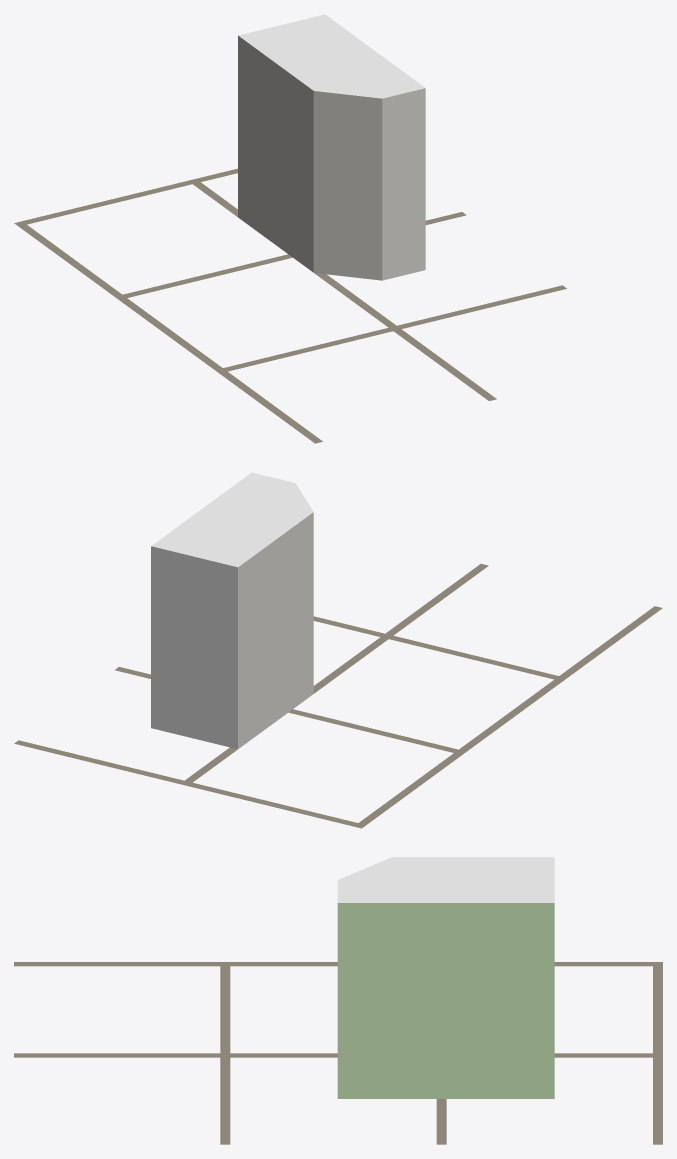
Rendered from Cave_Edge_Straight_Mid_1x1.glb.
The picture shows the model from 3 angles, top to bottom: view 1: azimuth 30°, elevation 25°; view 2: azimuth 150°, elevation 25°; view 3: azimuth 270°, elevation 25°; orthographic projection. The views are drawn at different scales.
Parts seen in each view (by area): view 1: Cave_Edge_Straight_Mid_1x1, Floor; view 2: Cave_Edge_Straight_Mid_1x1, Floor; view 3: Cave_Edge_Straight_Mid_1x1, Floor.
Boxes of the visible parts, bbox=[...] form: Cave_Edge_Straight_Mid_1x1: bbox=[238, 14, 425, 280]; Floor: bbox=[14, 168, 566, 443]; Cave_Edge_Straight_Mid_1x1: bbox=[151, 472, 313, 749]; Floor: bbox=[14, 563, 662, 828]; Cave_Edge_Straight_Mid_1x1: bbox=[337, 857, 554, 1098]; Floor: bbox=[14, 962, 662, 1144].
Size of the model in its own units: 200 by 100 by 300.
4 materials, 1 textured.
